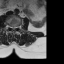CCS_severe_stenosis: (12, 24, 14, 32)
LFS_normal: (16, 24, 18, 30)
LLS_normal: (14, 24, 16, 31)
RFS_stenosis: (9, 23, 11, 29)
RLS_normal: (11, 24, 12, 31)
